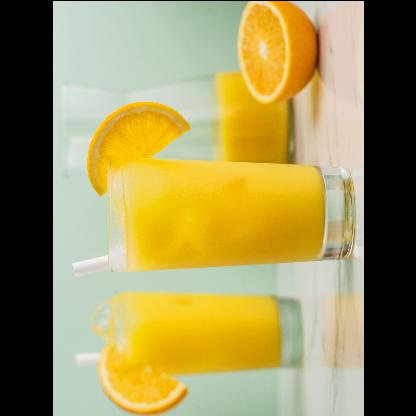orange juice: (110, 157, 328, 270), (110, 290, 284, 374)
